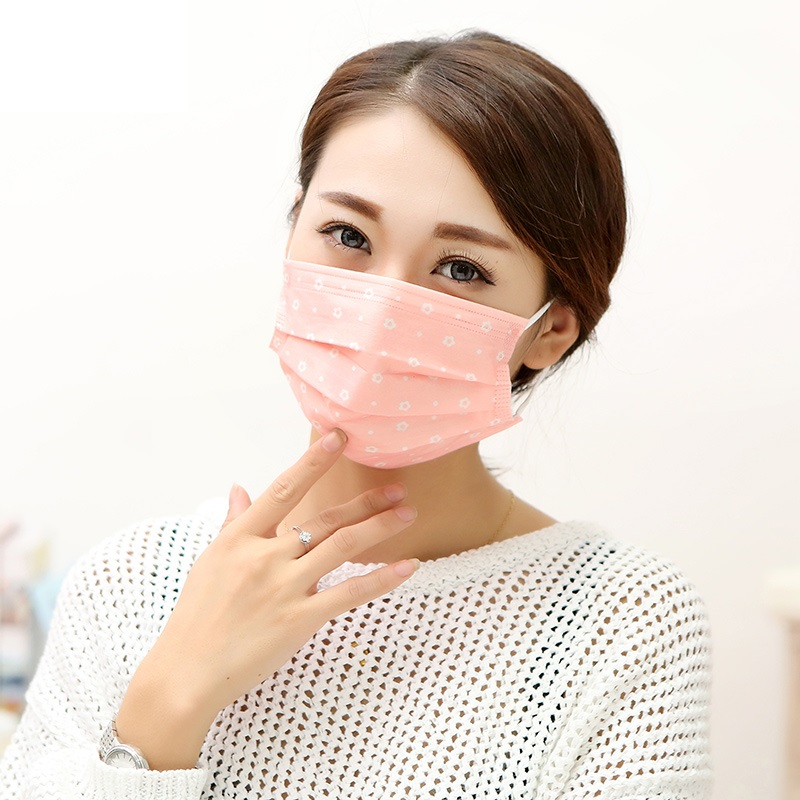face_mask: (284, 108, 542, 455)
